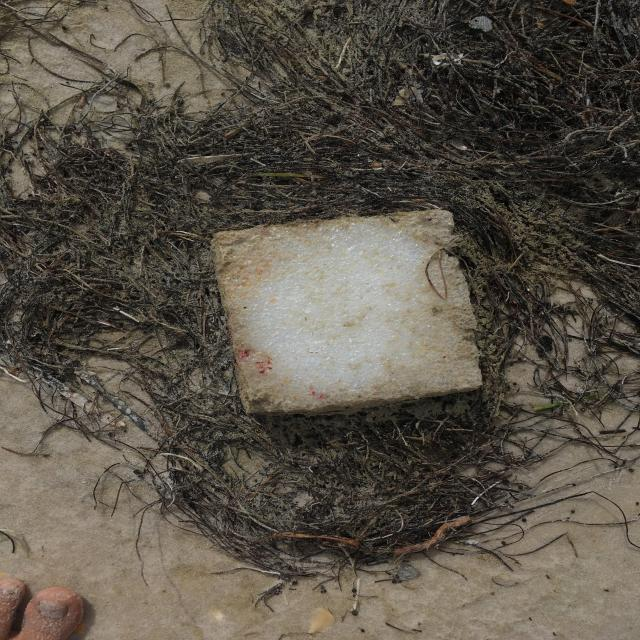litter: (211, 214, 481, 411)
